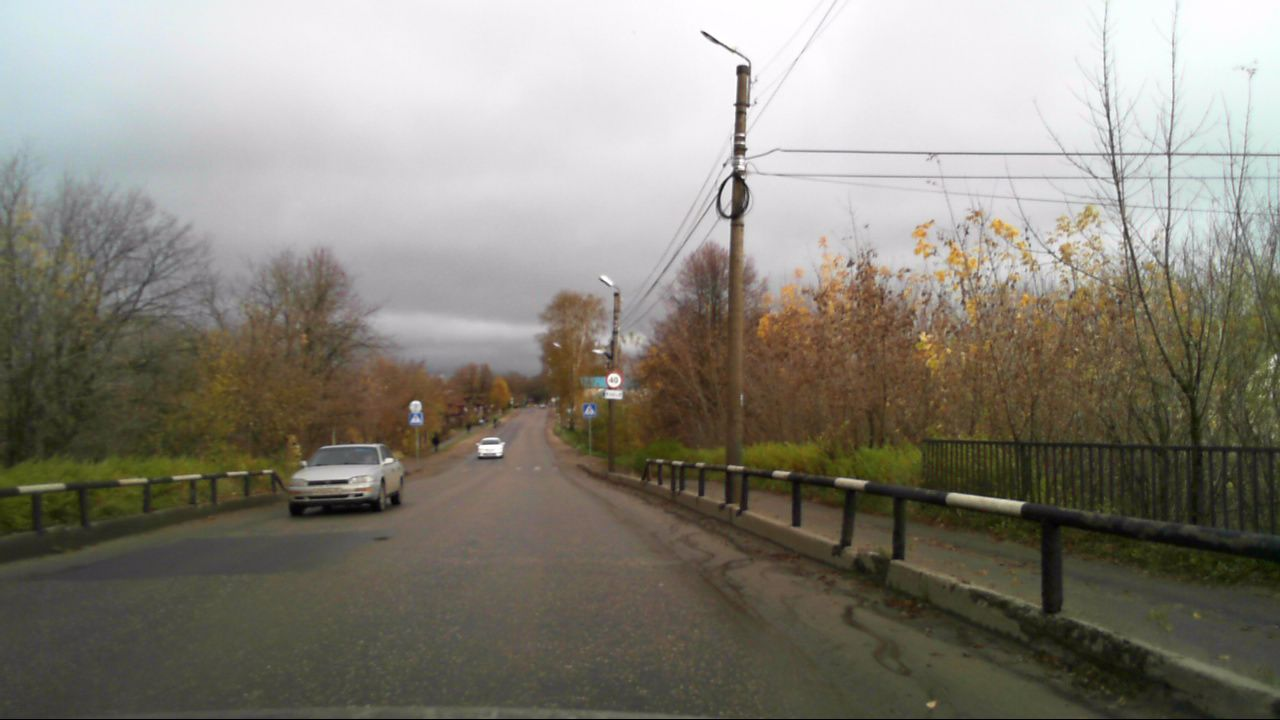speed_warning_40: (604, 370, 623, 390)
